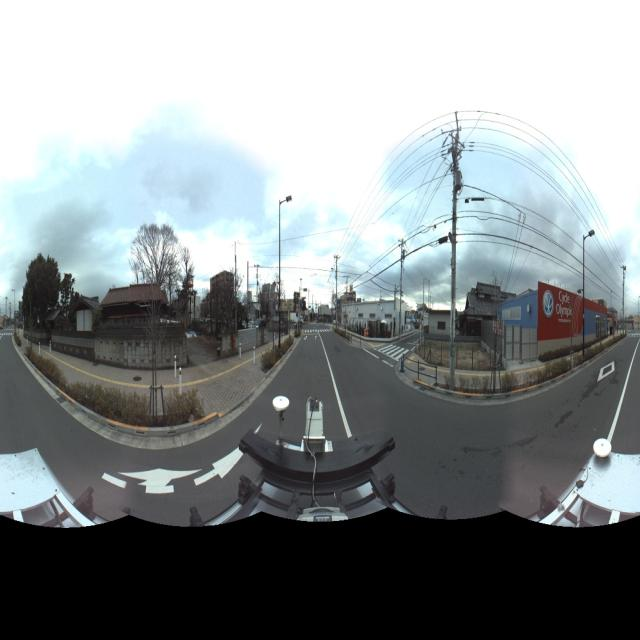b_1: (339, 292, 408, 337), (463, 272, 518, 324), (421, 306, 454, 346)
b_2: (205, 270, 251, 348)
